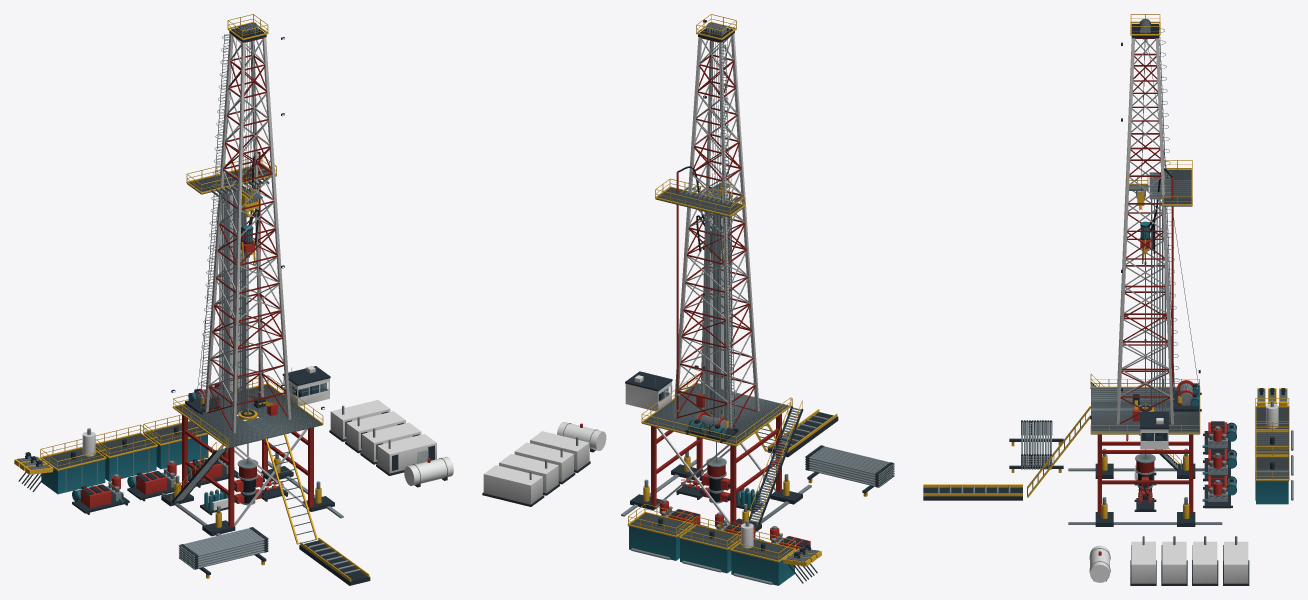
File: land_3000_triple_walking_lodh.glb
3 renders of one model, left to right at view 1: azimuth 30°, elevation 25°; view 2: azimuth 150°, elevation 25°; view 3: azimuth 270°, elevation 25°, orthographic.
Visible parts, largest first — view 1: derrick_surface_white, derrick_surface_red, setback_pipe_surface_steel, generators_surface_white, drill_floor_surface_deck, mud_tanks_surface_blue, drill_floor_surface_steel, substructure_surface_red, pipe_rack_surface_steel, mud_tanks_surface_deck, mud_tanks_surface_steel, mud_tanks_surface_yellow (+14 smaller); view 2: derrick_surface_white, generators_surface_white, setback_pipe_surface_steel, derrick_surface_red, mud_tanks_surface_blue, drill_floor_surface_deck, drill_floor_surface_steel, substructure_surface_red, pipe_rack_surface_steel, mud_tanks_surface_deck, mud_tanks_surface_steel, mud_tanks_surface_yellow (+16 smaller); view 3: derrick_surface_white, generators_surface_white, derrick_surface_red, drill_floor_surface_deck, drill_floor_surface_steel, mud_tanks_surface_steel, mud_tanks_surface_deck, substructure_surface_red, setback_pipe_surface_steel, pipe_rack_surface_steel, racking_board_surface_steel, catwalk_surface_dark (+14 smaller).
Boxes of the visible parts, box(x1,y1,x2,y2) form: derrick_surface_white: box(205, 33, 291, 433); derrick_surface_red: box(207, 38, 287, 429); setback_pipe_surface_steel: box(219, 187, 246, 416); generators_surface_white: box(330, 400, 436, 473); drill_floor_surface_deck: box(175, 384, 322, 448); mud_tanks_surface_blue: box(41, 435, 207, 494); drill_floor_surface_steel: box(175, 385, 321, 446); substructure_surface_red: box(182, 415, 313, 526); pipe_rack_surface_steel: box(179, 527, 268, 569); mud_tanks_surface_deck: box(42, 422, 208, 471); mud_tanks_surface_steel: box(43, 422, 204, 492); mud_tanks_surface_yellow: box(40, 414, 207, 470); derrick_surface_white: box(673, 33, 759, 428); generators_surface_white: box(483, 431, 589, 504); setback_pipe_surface_steel: box(704, 194, 731, 420); derrick_surface_red: box(676, 36, 757, 428); mud_tanks_surface_blue: box(629, 526, 794, 585); drill_floor_surface_deck: box(642, 383, 788, 446); drill_floor_surface_steel: box(643, 383, 788, 444); substructure_surface_red: box(651, 414, 781, 524); pipe_rack_surface_steel: box(805, 445, 894, 487); mud_tanks_surface_deck: box(628, 513, 793, 562); mud_tanks_surface_steel: box(630, 513, 793, 584); mud_tanks_surface_yellow: box(627, 504, 795, 562); derrick_surface_white: box(1116, 38, 1173, 424); generators_surface_white: box(1131, 541, 1248, 583); derrick_surface_red: box(1119, 38, 1170, 424); drill_floor_surface_deck: box(1091, 388, 1199, 434); drill_floor_surface_steel: box(1091, 387, 1199, 432); mud_tanks_surface_steel: box(1255, 407, 1293, 500); mud_tanks_surface_deck: box(1255, 408, 1288, 481); substructure_surface_red: box(1097, 434, 1193, 513); setback_pipe_surface_steel: box(1151, 199, 1165, 410); pipe_rack_surface_steel: box(1021, 422, 1051, 469); racking_board_surface_steel: box(1149, 169, 1191, 204); catwalk_surface_dark: box(923, 487, 1022, 500).
Bounding box in the file's own units: 43.62 × 58.21 × 40.86.
